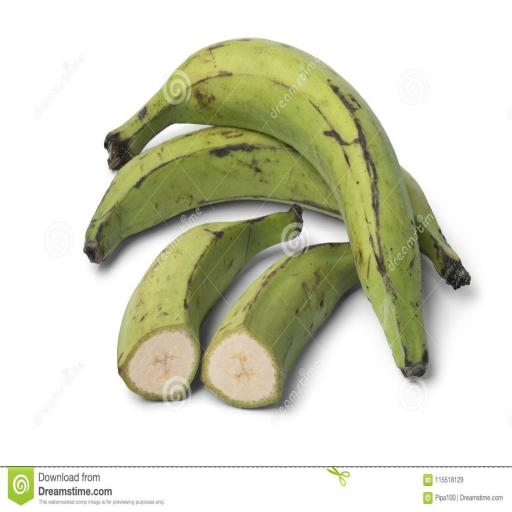banana-unripe: (55, 49, 488, 462)
